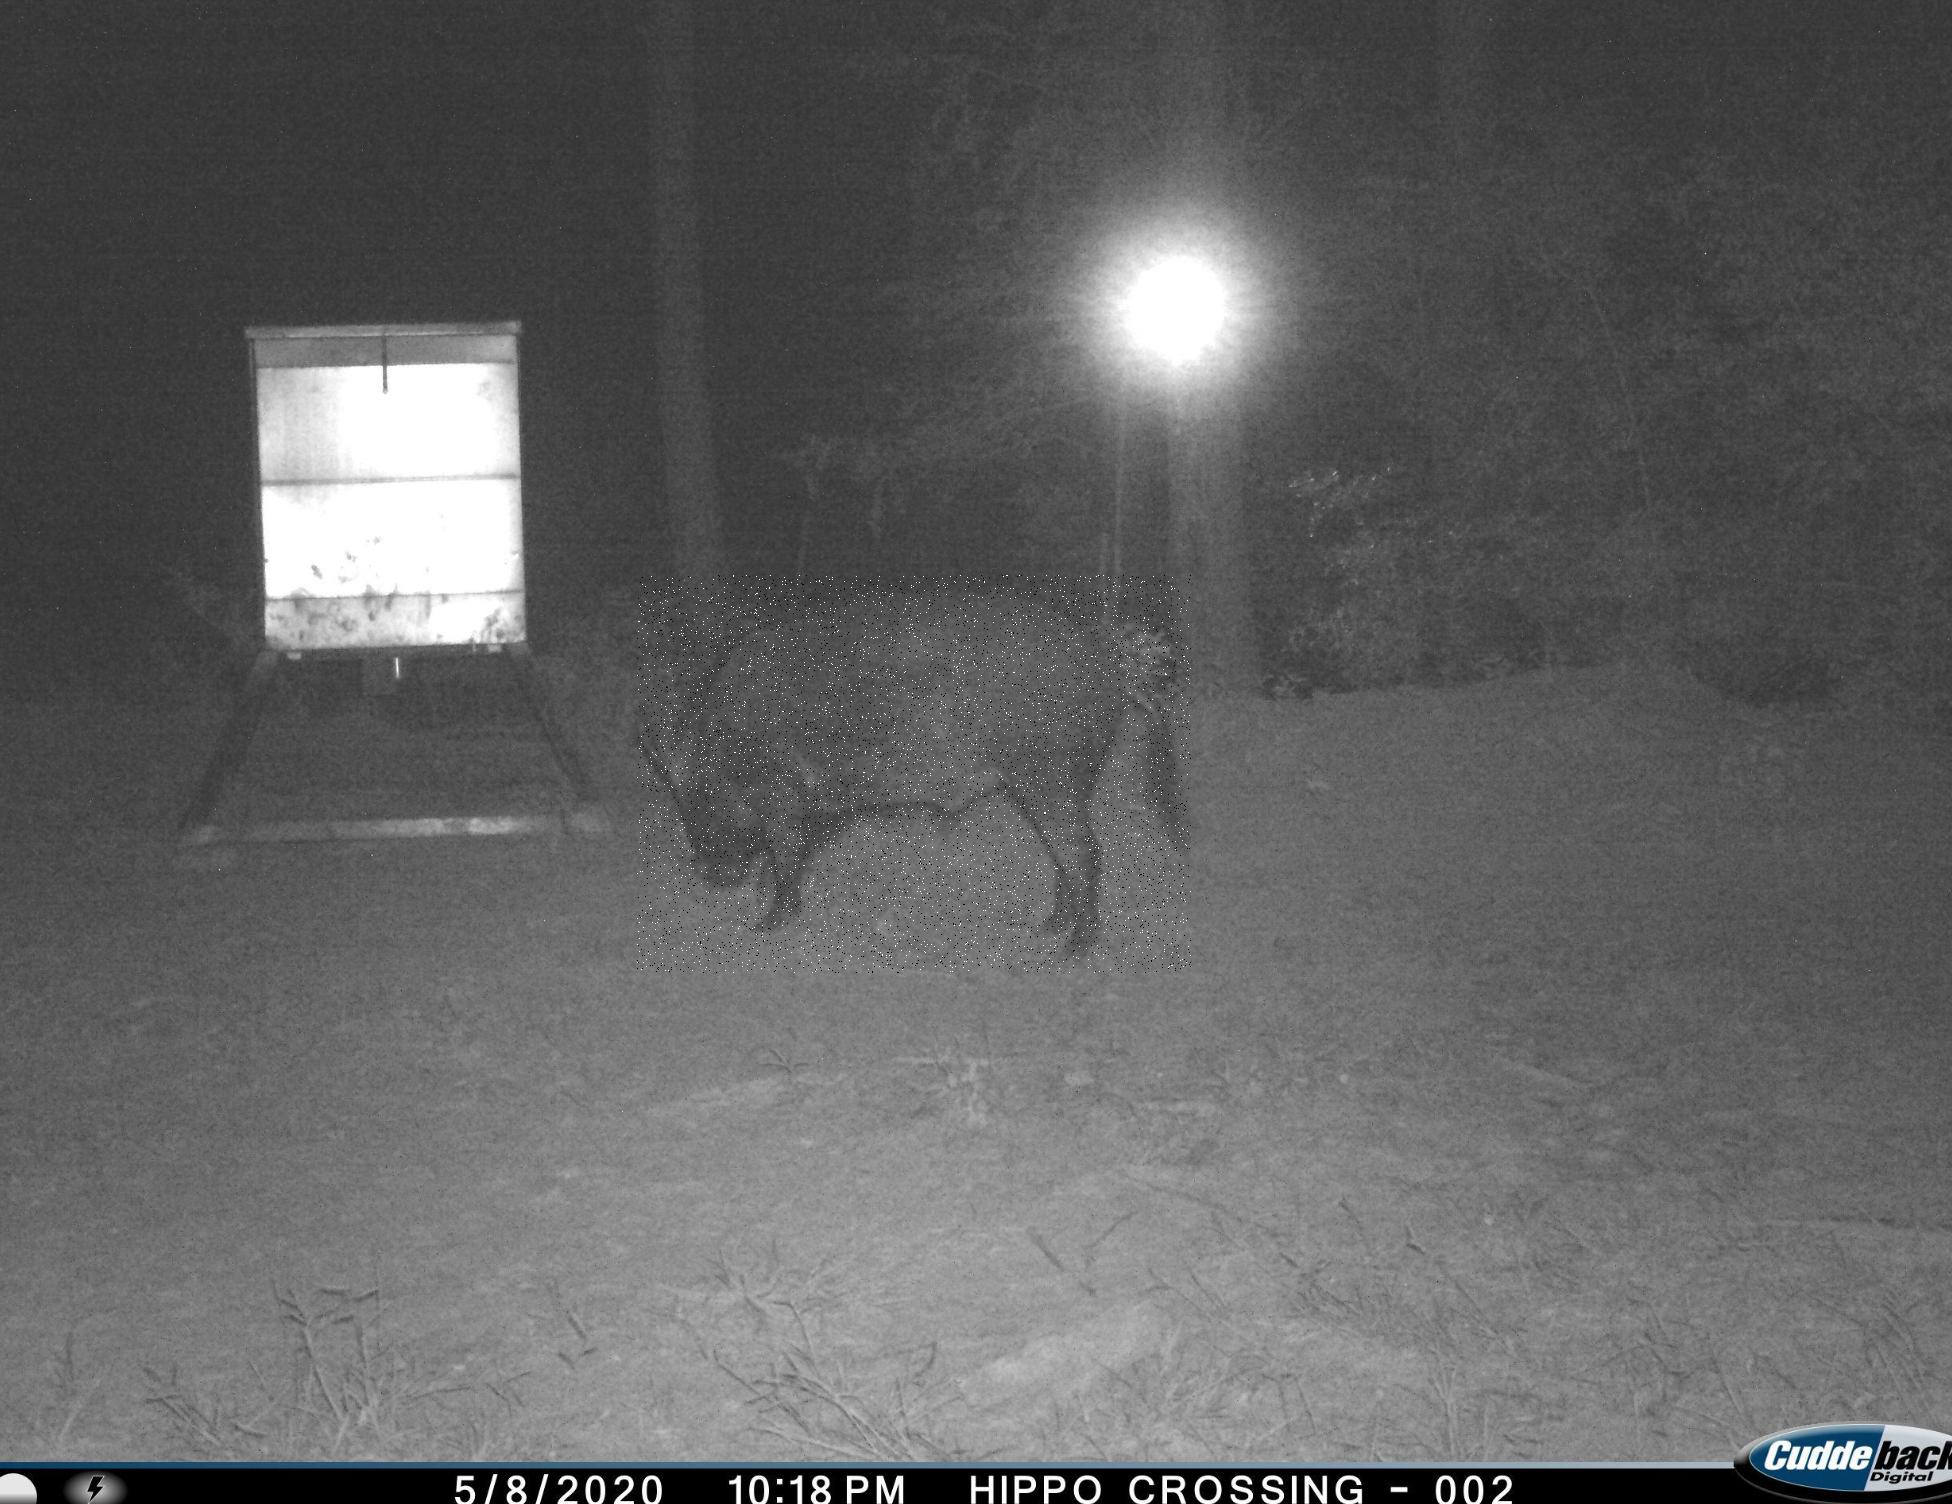Hog: (636, 575, 1191, 973)
